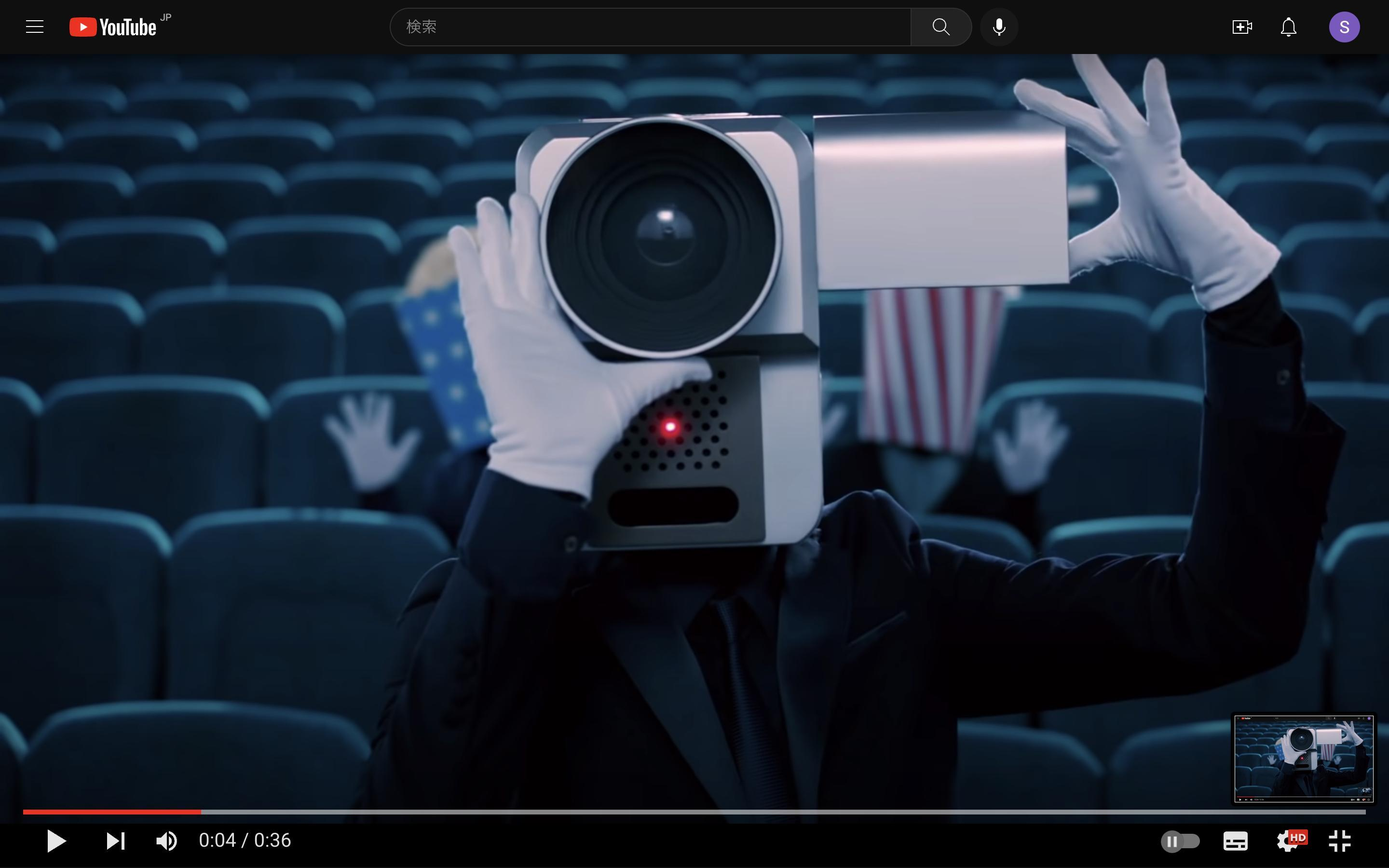no more kid: (517, 119, 1067, 550)
